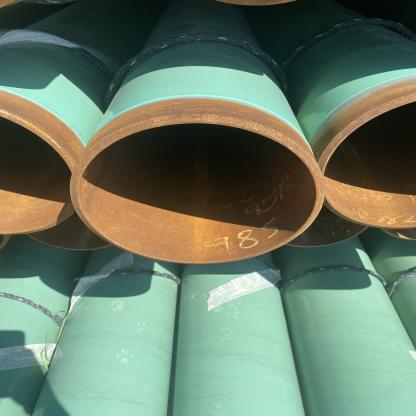clean: (150, 109, 216, 137)
